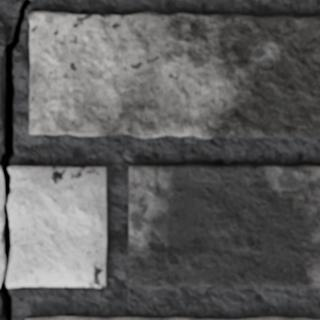brick: (28, 10, 319, 137), (127, 161, 319, 287), (25, 314, 319, 319), (0, 19, 6, 139), (0, 314, 5, 319)
broken_brick: (7, 165, 105, 285), (0, 169, 4, 282)
crack: (0, 0, 30, 319)
